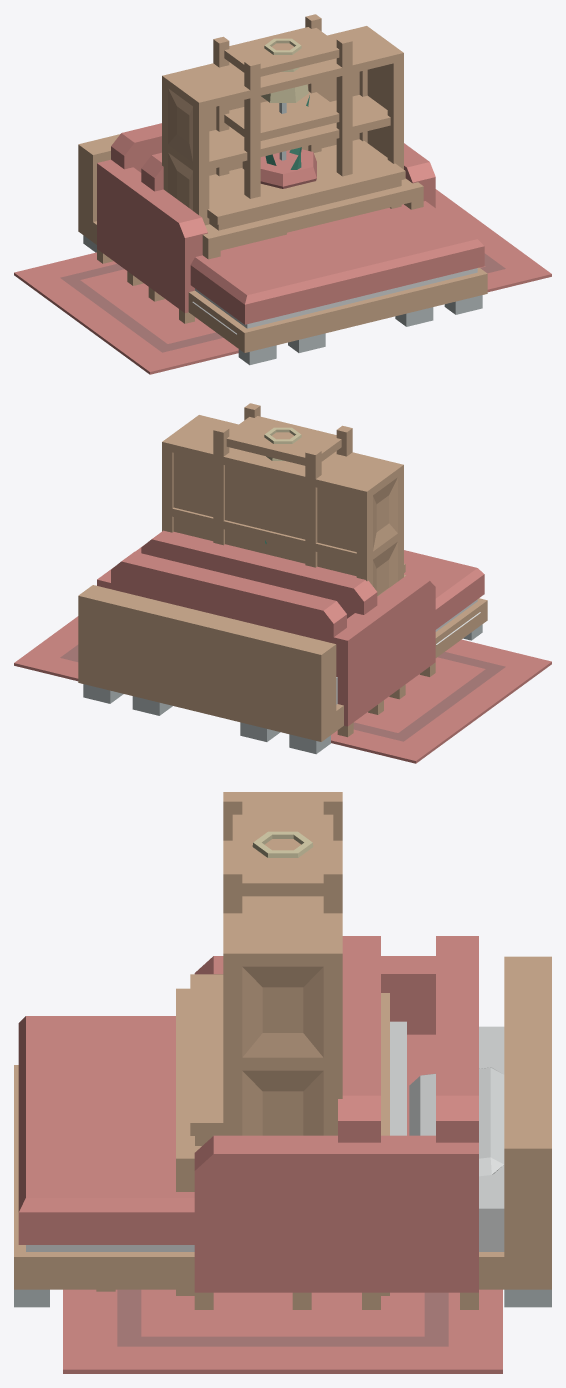
Rendered from furniture.glb.
The picture shows the model from 3 angles, top to bottom: view 1: azimuth 30°, elevation 25°; view 2: azimuth 150°, elevation 25°; view 3: azimuth 270°, elevation 25°; orthographic projection. The views are drawn at different scales.
Visible parts, largest first — view 1: bedDouble, bookcaseClosedWide, rugRectangle, bookcaseOpen, bedSingle, loungeSofa, desk, loungeSofaLong, table, stoolBar, lampRoundFloor; view 2: bookcaseClosedWide, bedDouble, loungeSofaLong, bedSingle, rugRectangle, loungeSofa, bookcaseOpen, lampRoundFloor; view 3: bedDouble, loungeSofa, loungeSofaLong, rugRectangle, bookcaseClosedWide, bedSingle, bookcaseOpen, desk, table, lampRoundFloor.
Part boxes in pixels (left/top/right/bottom): bedDouble: left=78, top=134, right=487, bottom=365; bookcaseClosedWide: left=162, top=26, right=403, bottom=225; rugRectangle: left=14, top=189, right=551, bottom=374; bookcaseOpen: left=213, top=14, right=352, bottom=198; bedSingle: left=245, top=211, right=438, bottom=352; loungeSofa: left=127, top=143, right=435, bottom=323; desk: left=207, top=139, right=405, bottom=250; loungeSofaLong: left=97, top=123, right=170, bottom=301; table: left=202, top=178, right=423, bottom=259; stoolBar: left=260, top=149, right=316, bottom=188; lampRoundFloor: left=261, top=38, right=308, bottom=160; bookcaseClosedWide: left=162, top=415, right=403, bottom=596; bedDouble: left=78, top=556, right=487, bottom=754; loungeSofaLong: left=97, top=546, right=405, bottom=737; bedSingle: left=127, top=550, right=427, bottom=741; rugRectangle: left=14, top=616, right=551, bottom=763; loungeSofa: left=139, top=530, right=435, bottom=714; bookcaseOpen: left=213, top=403, right=352, bottom=567; lampRoundFloor: left=264, top=427, right=301, bottom=460; bedDouble: left=14, top=956, right=551, bottom=1307; loungeSofa: left=194, top=936, right=380, bottom=1309; loungeSofaLong: left=96, top=936, right=478, bottom=1309; rugRectangle: left=63, top=1289, right=502, bottom=1373; bookcaseClosedWide: left=223, top=792, right=342, bottom=1135; bedSingle: left=14, top=995, right=548, bottom=1217; bookcaseOpen: left=223, top=793, right=342, bottom=913; desk: left=190, top=974, right=223, bottom=1145; table: left=176, top=988, right=389, bottom=1295; lampRoundFloor: left=252, top=831, right=313, bottom=857.
Bounding box in the file's own units: 1.57 × 0.88 × 1.12.
